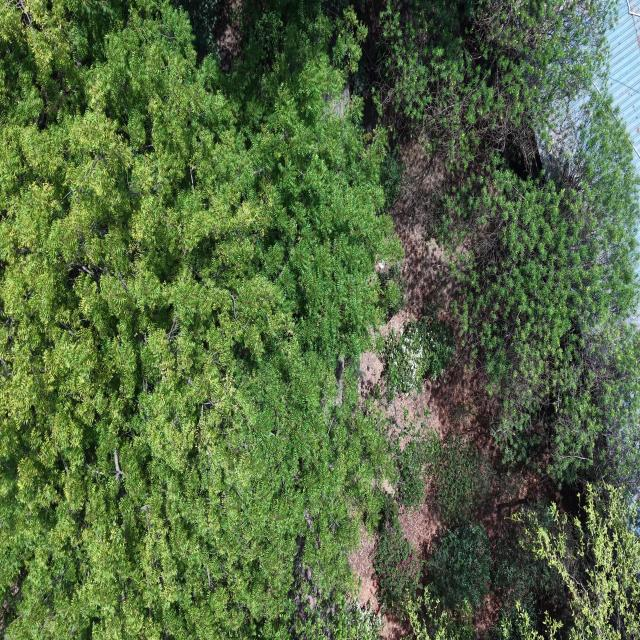DRY_AREA: (360, 352, 500, 468), (380, 140, 457, 335), (380, 141, 456, 335), (380, 142, 456, 335), (380, 142, 455, 335), (390, 142, 454, 325), (349, 531, 380, 613), (350, 531, 379, 611), (399, 502, 441, 557), (214, 0, 243, 72), (216, 0, 242, 71)
VEGETATION_TREE: (0, 0, 639, 639), (0, 2, 399, 638), (367, 2, 639, 638), (374, 2, 638, 482), (443, 103, 638, 480), (374, 0, 613, 170), (521, 484, 639, 639), (491, 512, 566, 639), (395, 430, 493, 525), (427, 521, 491, 614), (382, 317, 454, 396), (431, 436, 492, 524), (373, 523, 421, 611), (180, 0, 237, 66), (406, 587, 473, 639), (396, 432, 441, 509), (335, 603, 381, 639), (381, 153, 403, 207)
